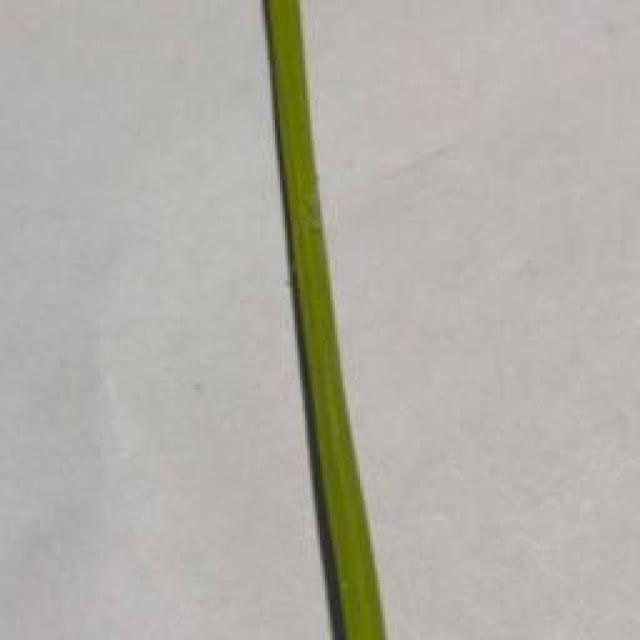Healthy-Plant: (261, 3, 383, 640)
